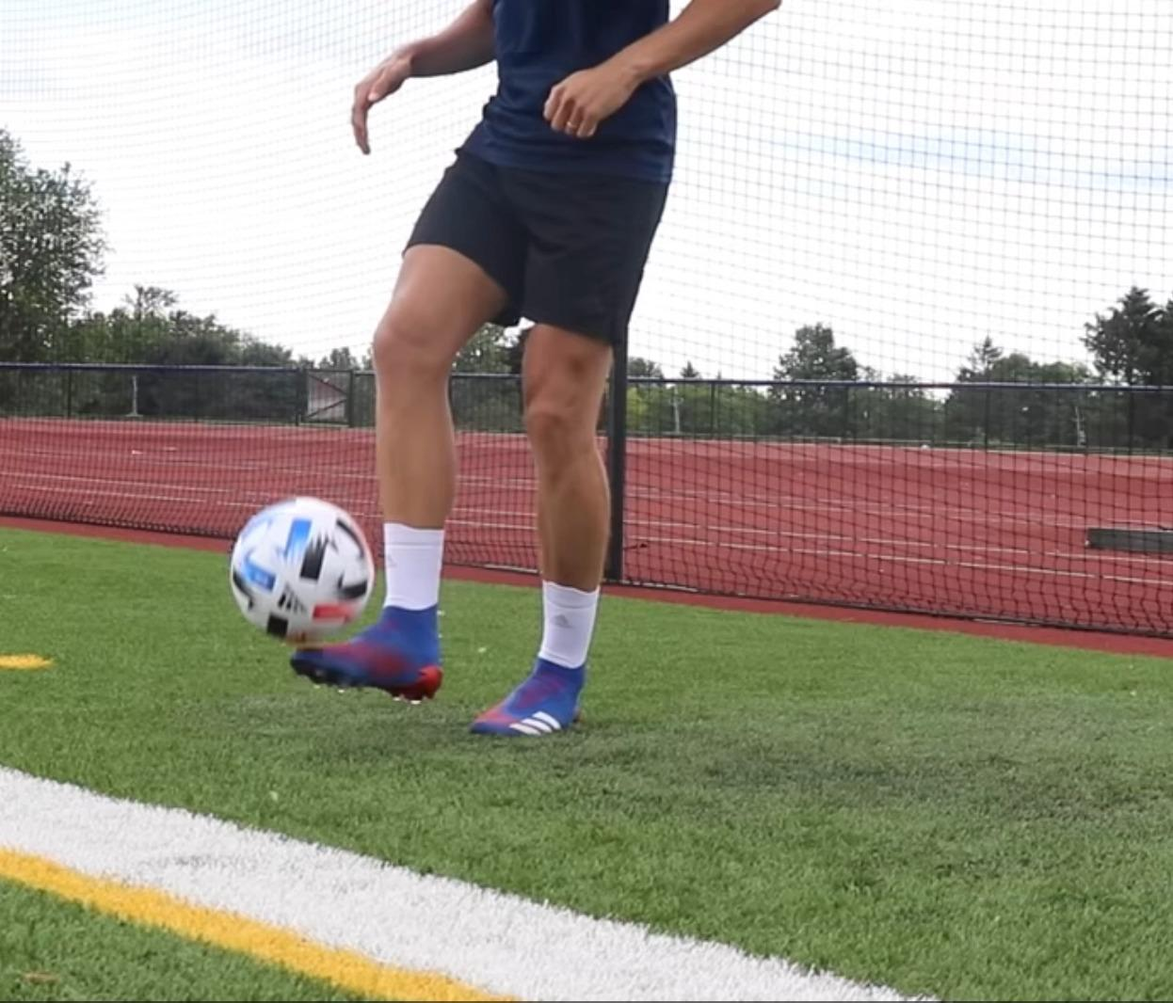ball: (229, 499, 371, 639)
foot: (289, 598, 446, 706), (468, 649, 588, 745)
person: (291, 0, 778, 741)
